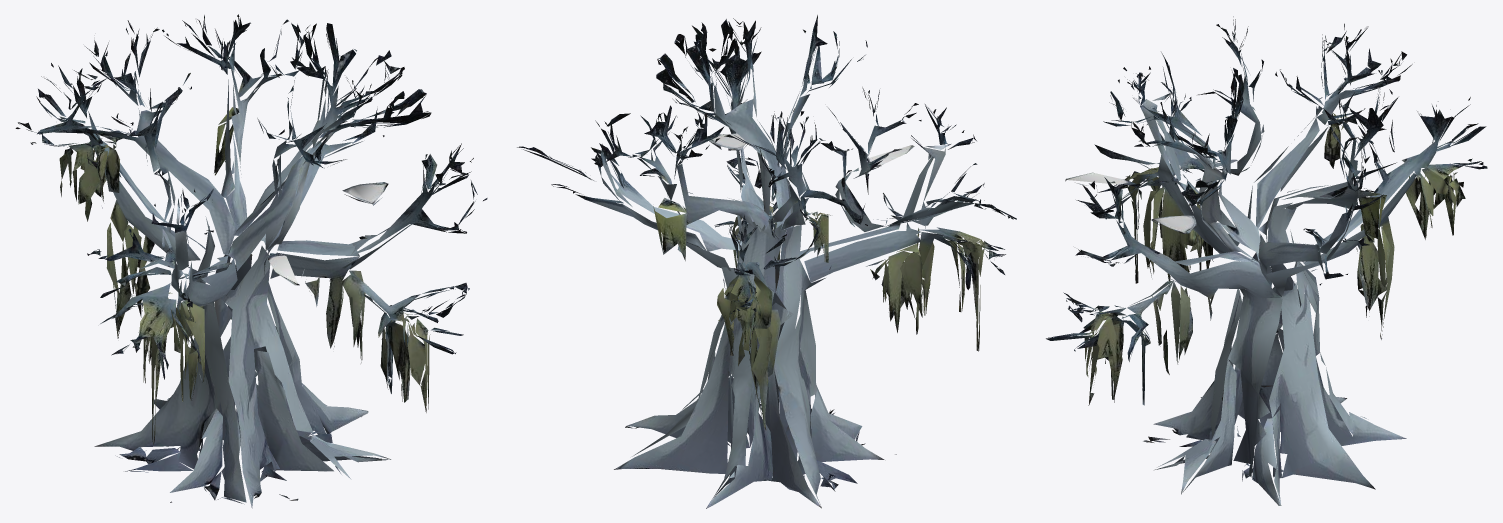
Rendered from sis_agaci.glb.
3 views of the same model, side by side, from view 1: azimuth 30°, elevation 25°; view 2: azimuth 150°, elevation 25°; view 3: azimuth 270°, elevation 25° (orthographic). The views are drawn at different scales.
Visible parts, largest first — view 1: geometry_0; view 2: geometry_0; view 3: geometry_0.
Boxes of the visible parts, bbox=[...] form: geometry_0: bbox=[15, 14, 487, 508]; geometry_0: bbox=[517, 15, 1016, 508]; geometry_0: bbox=[1046, 16, 1487, 505].
Size of the model in its own units: 0.9627 by 0.9868 by 0.963.
Materials: 1 (1 with a texture image).
